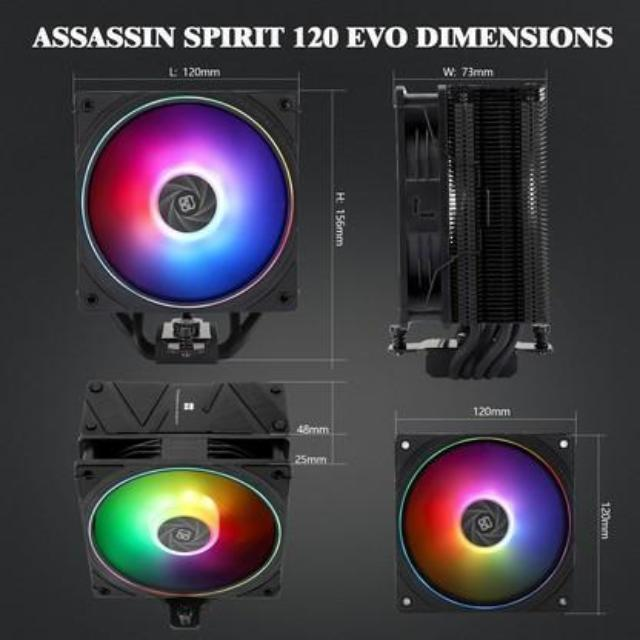CPU_Fan: (44, 376, 358, 628), (59, 72, 326, 366), (370, 66, 584, 380)
